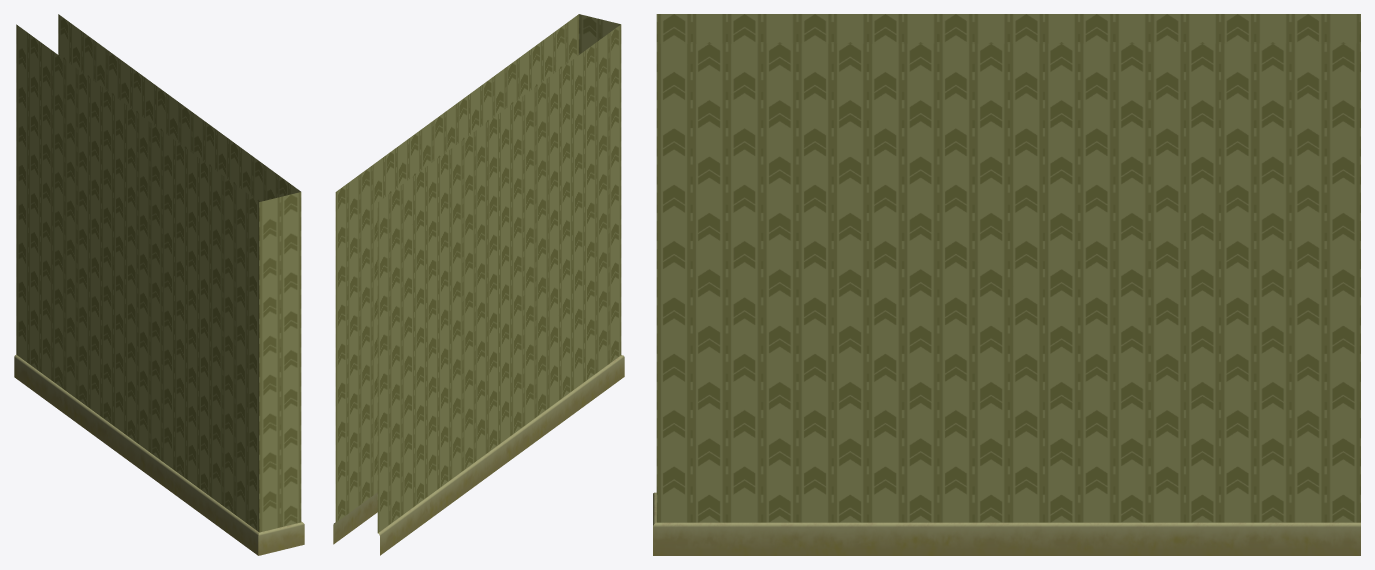
Rendered from WallLeftCutLeft.fbx.
3 views of the same model, side by side, from view 1: azimuth 30°, elevation 25°; view 2: azimuth 150°, elevation 25°; view 3: azimuth 270°, elevation 25° (orthographic). The views are drawn at different scales.
Parts seen in each view (by area): view 1: WallLeftCutLeft; view 2: WallLeftCutLeft; view 3: WallLeftCutLeft.
Boxes of the visible parts, bbox=[...] form: WallLeftCutLeft: bbox=[14, 14, 304, 555]; WallLeftCutLeft: bbox=[333, 14, 624, 555]; WallLeftCutLeft: bbox=[653, 14, 1360, 555].
Bounding box in the file's own units: 55 × 400 × 502.
